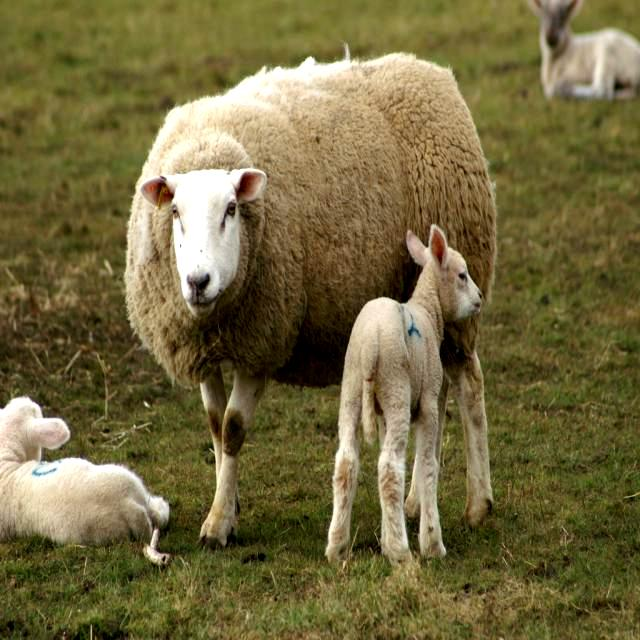sheep: (124, 50, 495, 535), (325, 222, 480, 559), (0, 395, 168, 544), (532, 0, 638, 99)
